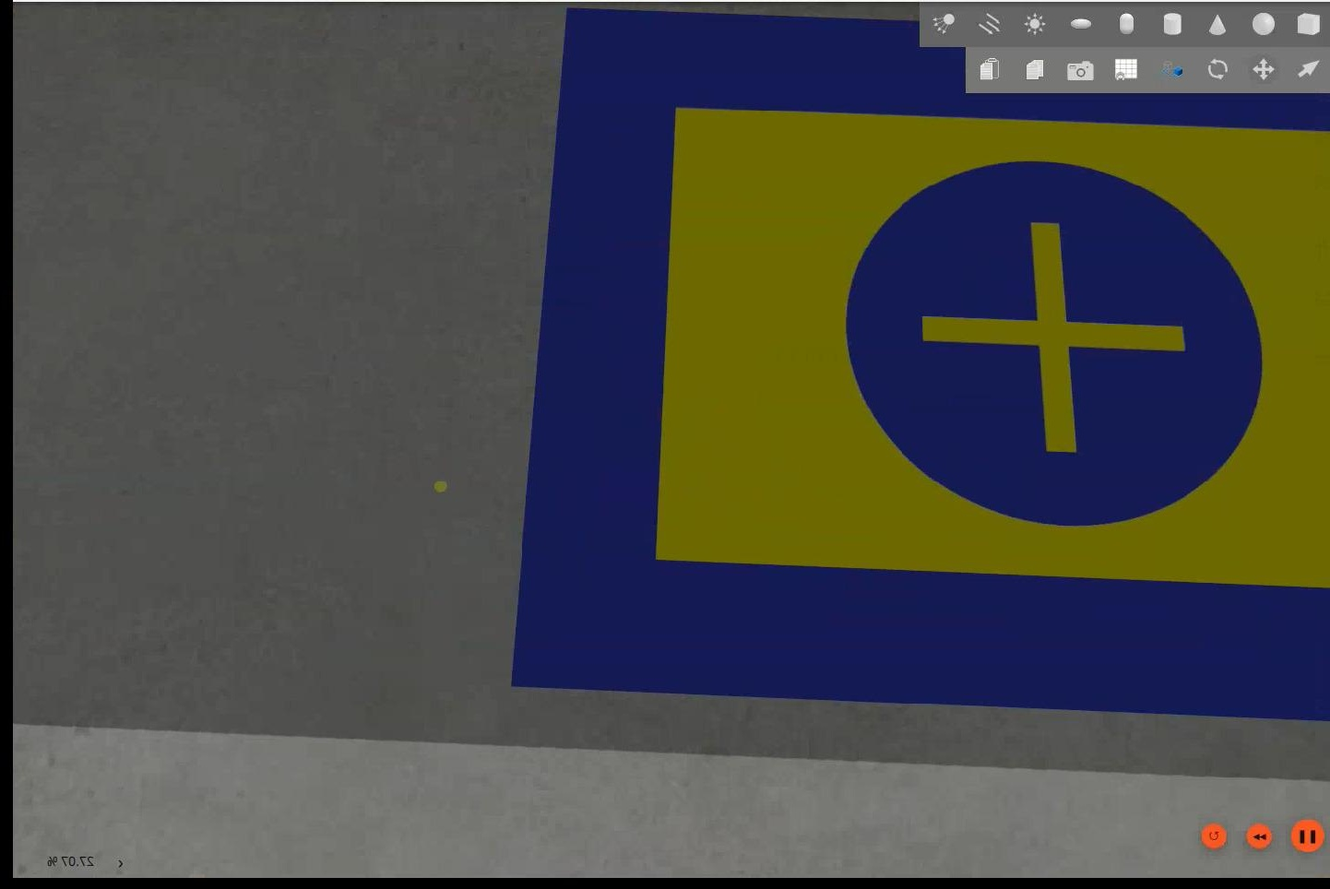large_base: (511, 3, 1328, 721)
